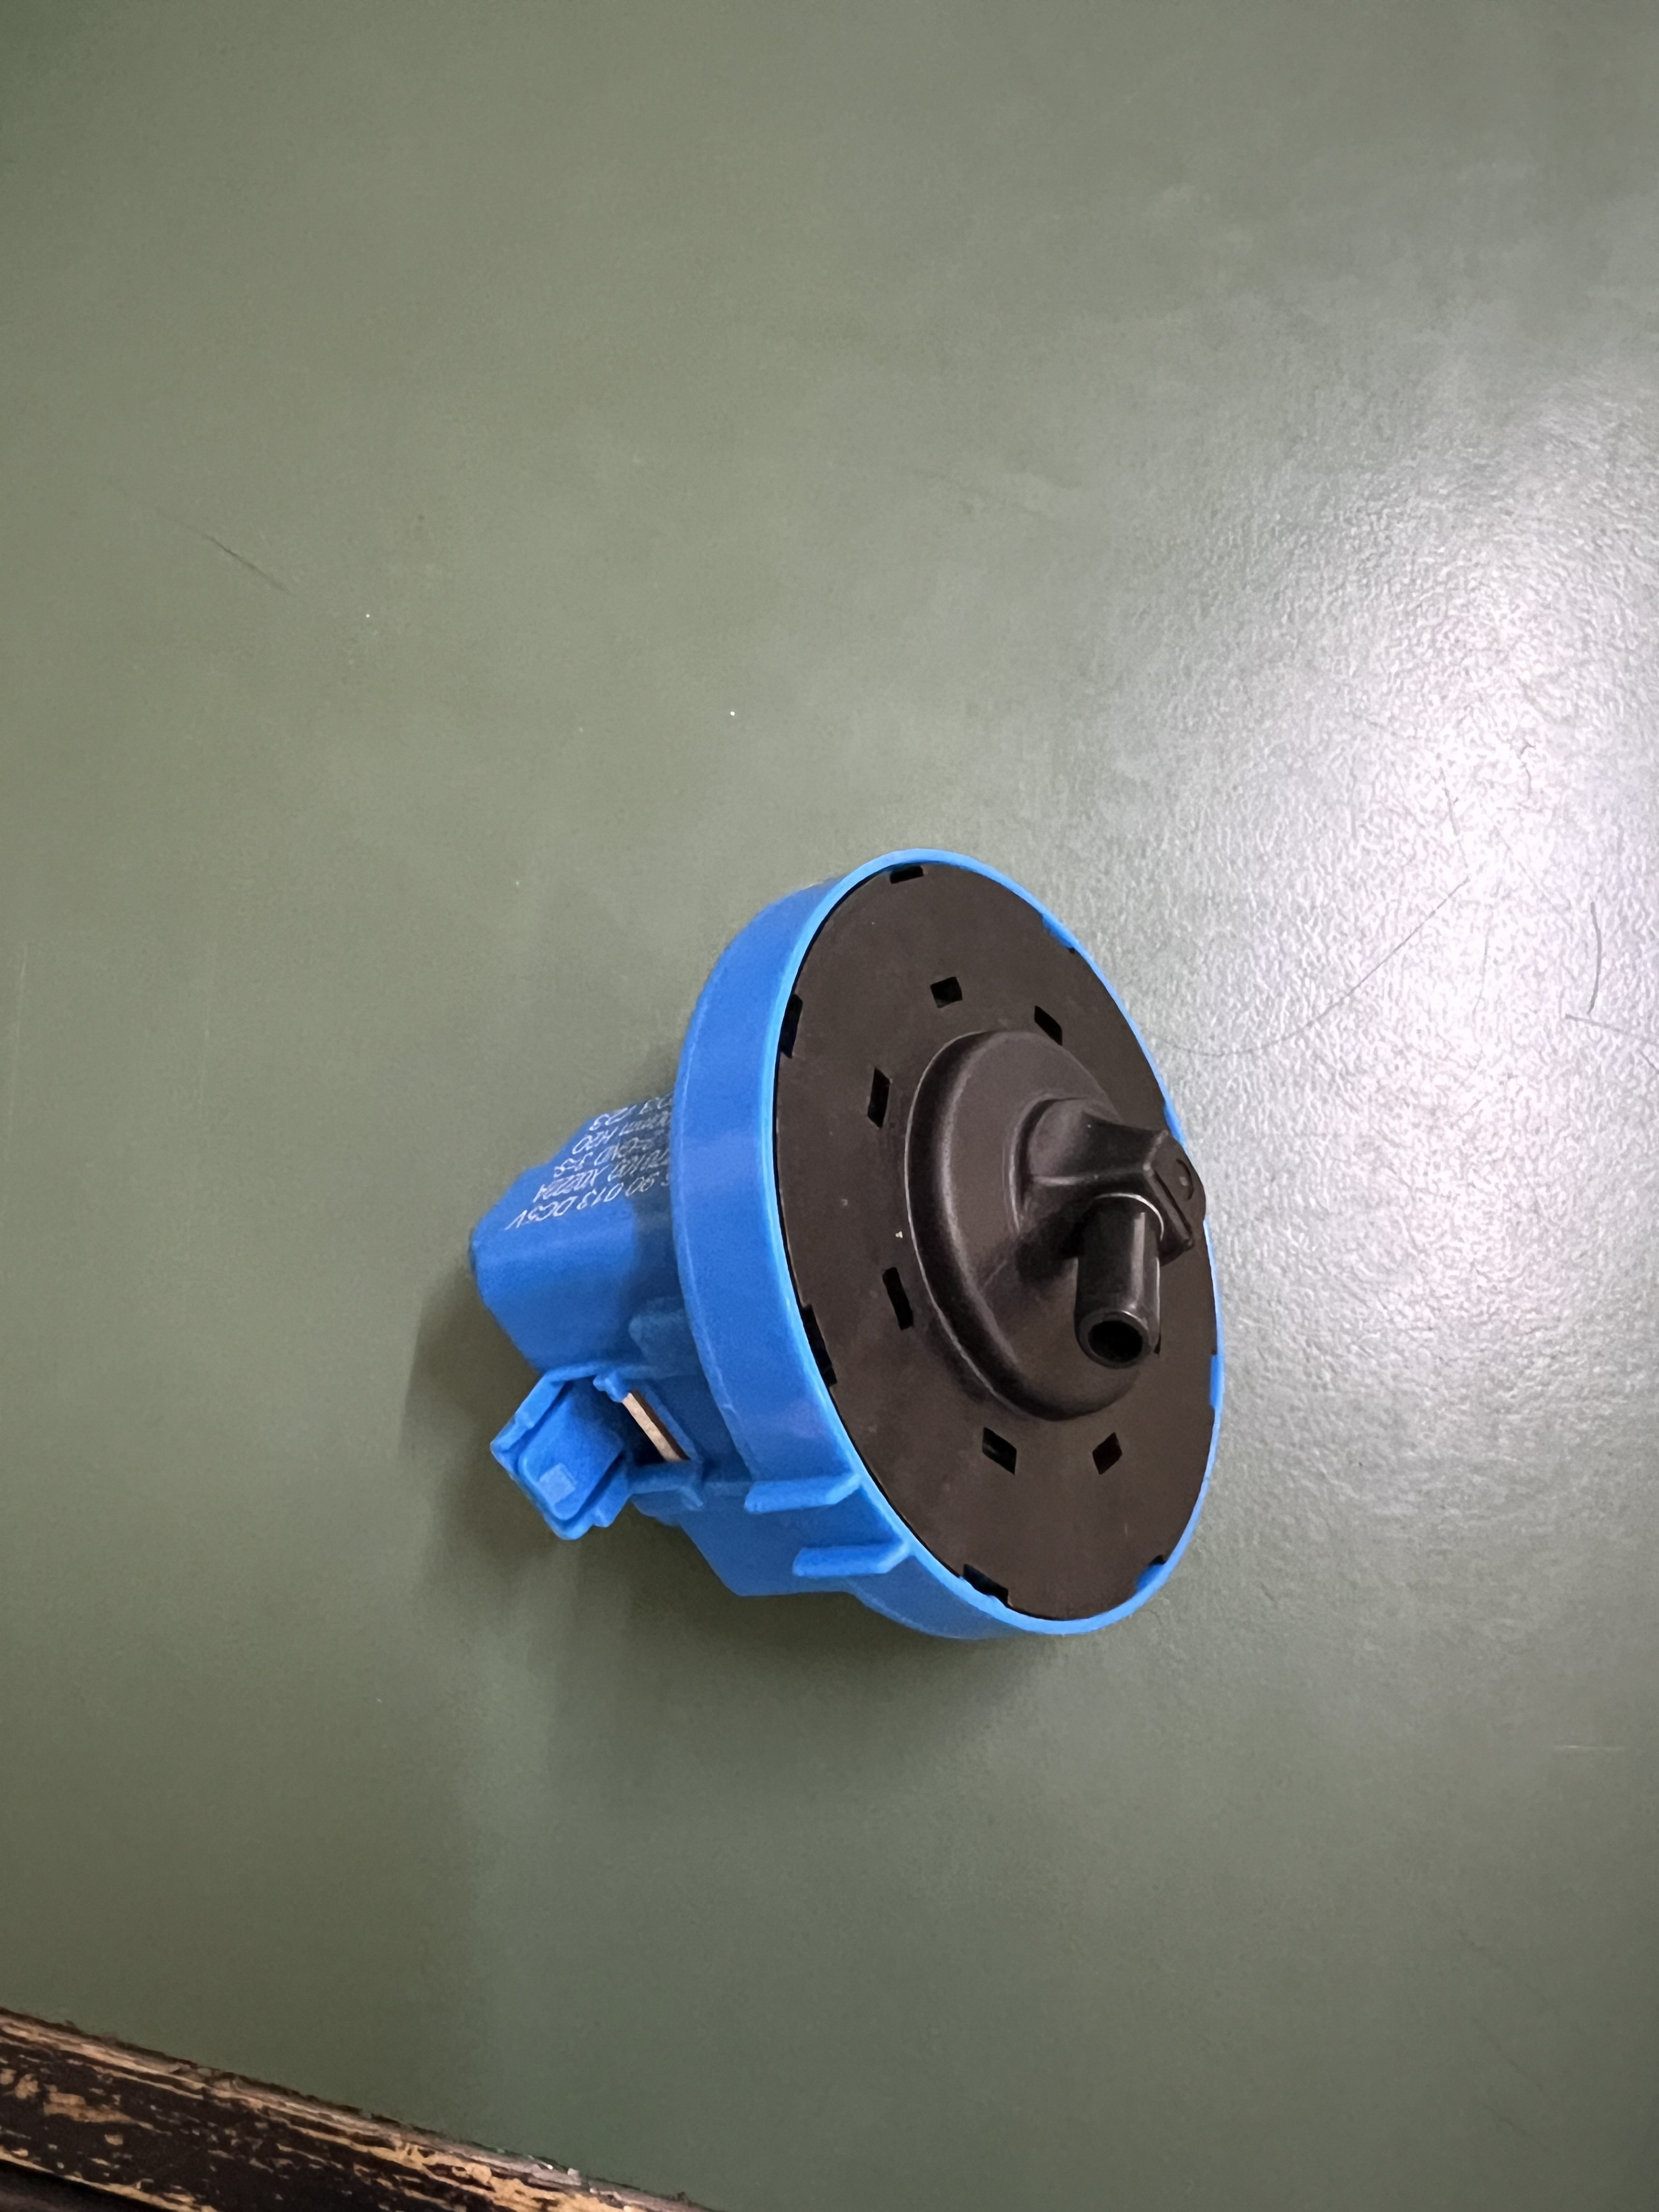voltas_beko_pressure_switch: (458, 850, 1241, 1740)
